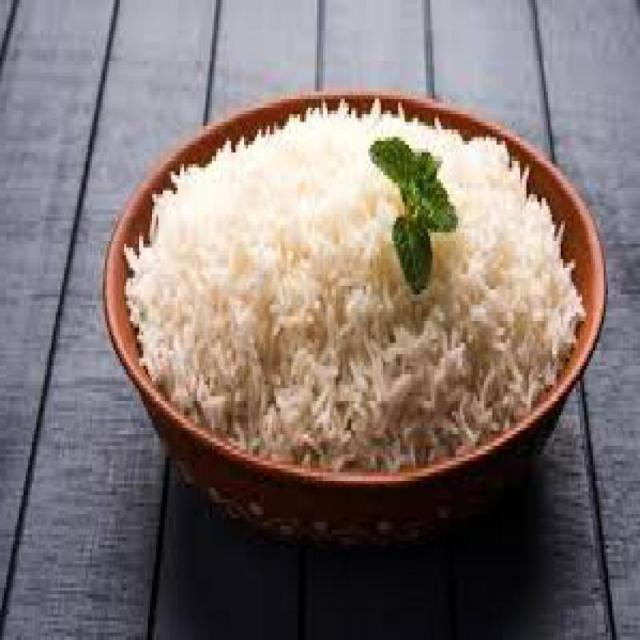nasi_putih: (125, 108, 581, 474)
